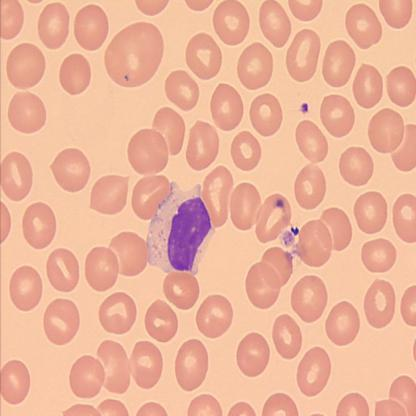Atypical lymphocyte: (148, 184, 211, 270)
